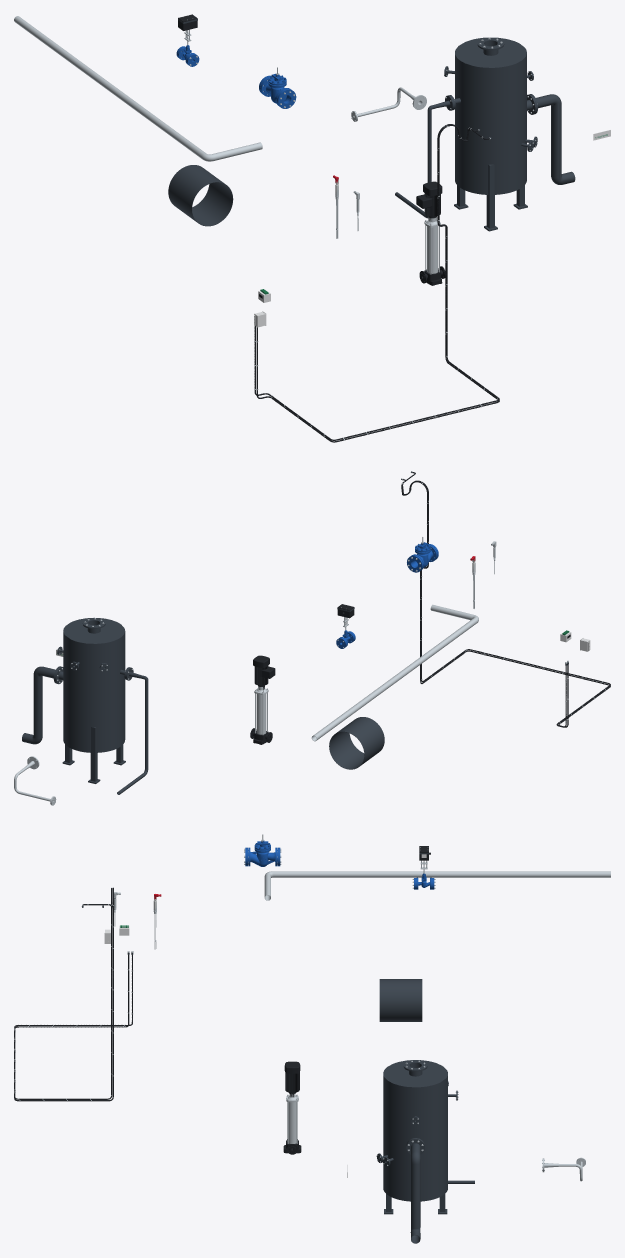
3 renders of one model, top to bottom at view 1: azimuth 30°, elevation 25°; view 2: azimuth 150°, elevation 25°; view 3: azimuth 270°, elevation 25°, orthographic. The views are drawn at different scales.
Parts seen in each view (by area): view 1: separator_bdv60_5 / dark, flue_spacer / dark, safety_vent_1 / steel, wiring_pressure_switch_2 / black, bdv_water_drain / dark, wiring_pressure_switch_1 / black, bottom_to_bdv / dark, pump_2 CAD solid 15; view 2: separator_bdv60_5 / dark, flue_spacer / dark, safety_vent_1 / steel, bdv_water_drain / dark, wiring_pressure_switch_1 / black, wiring_pressure_switch_2 / black, bottom_to_bdv / dark, pump_2 CAD solid 15; view 3: separator_bdv60_5 / dark, safety_vent_1 / steel, flue_spacer / dark, bdv_water_drain / dark, wiring_pressure_switch_1 / black, wiring_pressure_switch_2 / black, gpz CAD solid 0.
Part boxes in pixels (x1,y1,x2,y2): separator_bdv60_5 / dark: (444, 37, 537, 231); flue_spacer / dark: (168, 165, 233, 226); safety_vent_1 / steel: (14, 16, 262, 161); wiring_pressure_switch_2 / black: (254, 124, 499, 440); bdv_water_drain / dark: (530, 94, 575, 184); wiring_pressure_switch_1 / black: (256, 124, 499, 442); bottom_to_bdv / dark: (395, 95, 454, 218); pump_2 CAD solid 15: (416, 181, 442, 217); separator_bdv60_5 / dark: (55, 617, 129, 783); flue_spacer / dark: (329, 717, 384, 769); safety_vent_1 / steel: (311, 604, 478, 741); bdv_water_drain / dark: (22, 666, 60, 744); wiring_pressure_switch_1 / black: (401, 472, 610, 727); wiring_pressure_switch_2 / black: (402, 479, 610, 727); bottom_to_bdv / dark: (117, 667, 148, 794); pump_2 CAD solid 15: (253, 655, 275, 686); separator_bdv60_5 / dark: (376, 1060, 457, 1214); safety_vent_1 / steel: (264, 871, 610, 900); flue_spacer / dark: (379, 979, 422, 1021); bdv_water_drain / dark: (406, 1138, 424, 1243); wiring_pressure_switch_1 / black: (14, 887, 129, 1101); wiring_pressure_switch_2 / black: (14, 888, 132, 1099); gpz CAD solid 0: (248, 834, 277, 866).
Bounding box in the file's own units: 5.99 × 3.29 × 7.03.
